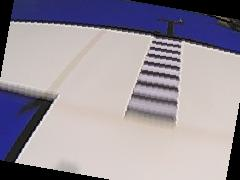CrossWalk: (124, 34, 184, 129)
